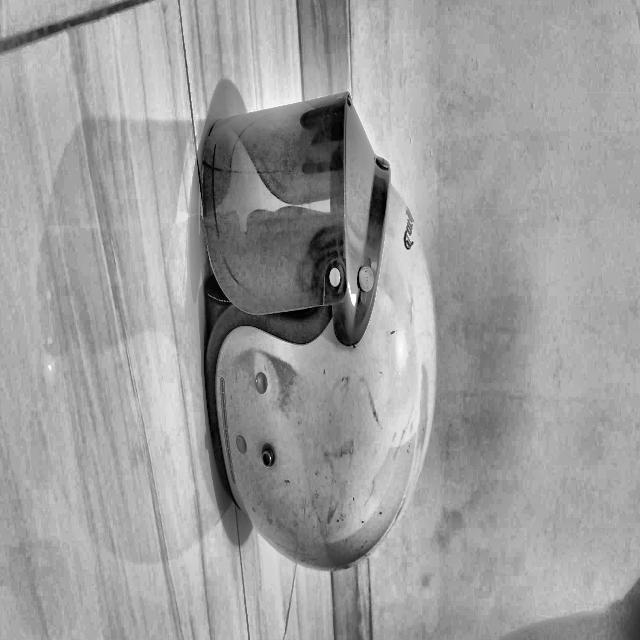Helmet: (324, 379, 612, 640)
